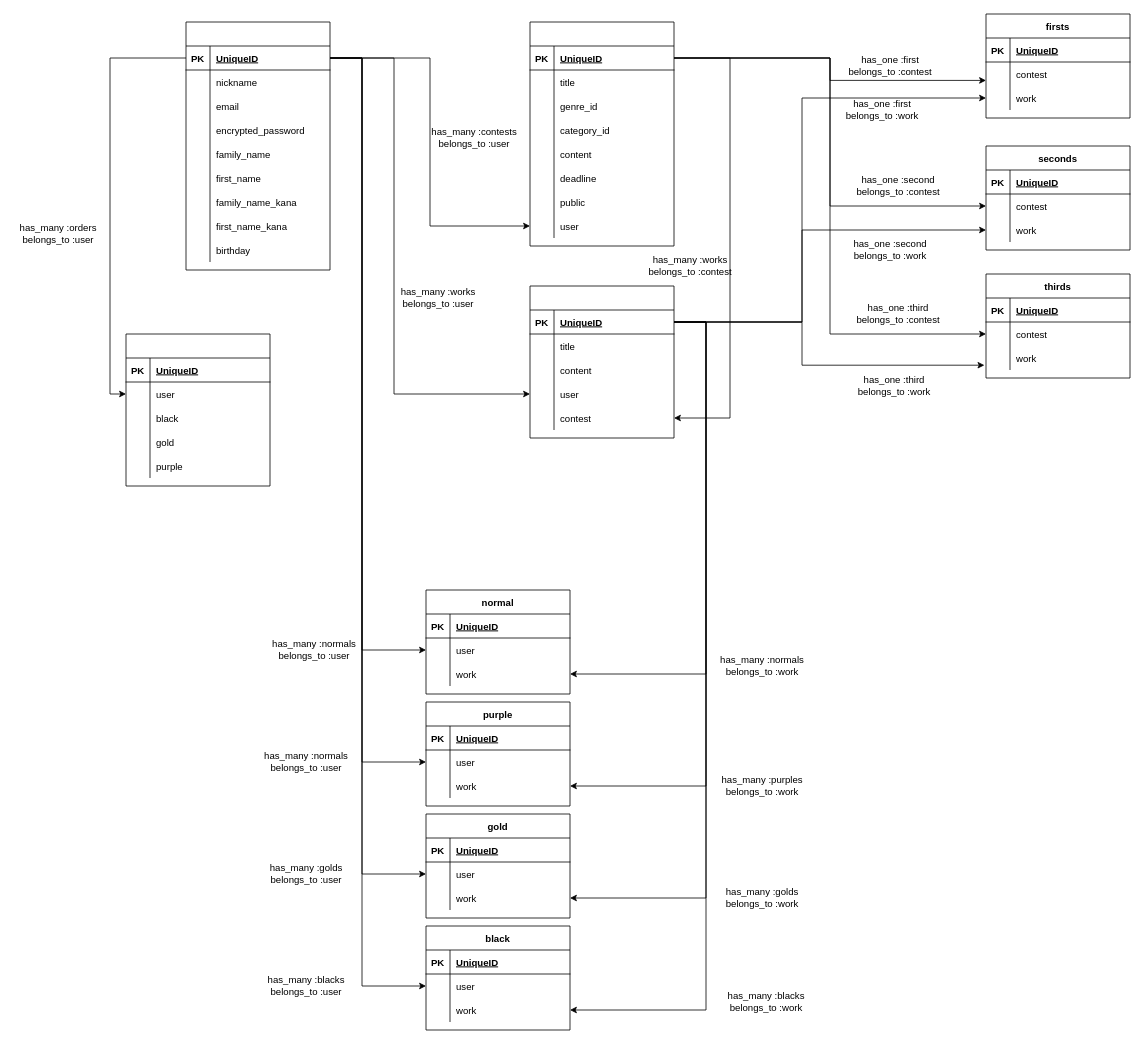
This 1144x1044 diagram has some shape labels left out. Here are the shapes that lost their labels. From the top down, the box of each, then its label:
(185, 21, 330, 270): users
(529, 21, 674, 246): contests
(529, 285, 674, 438): works
(125, 333, 270, 486): orders
